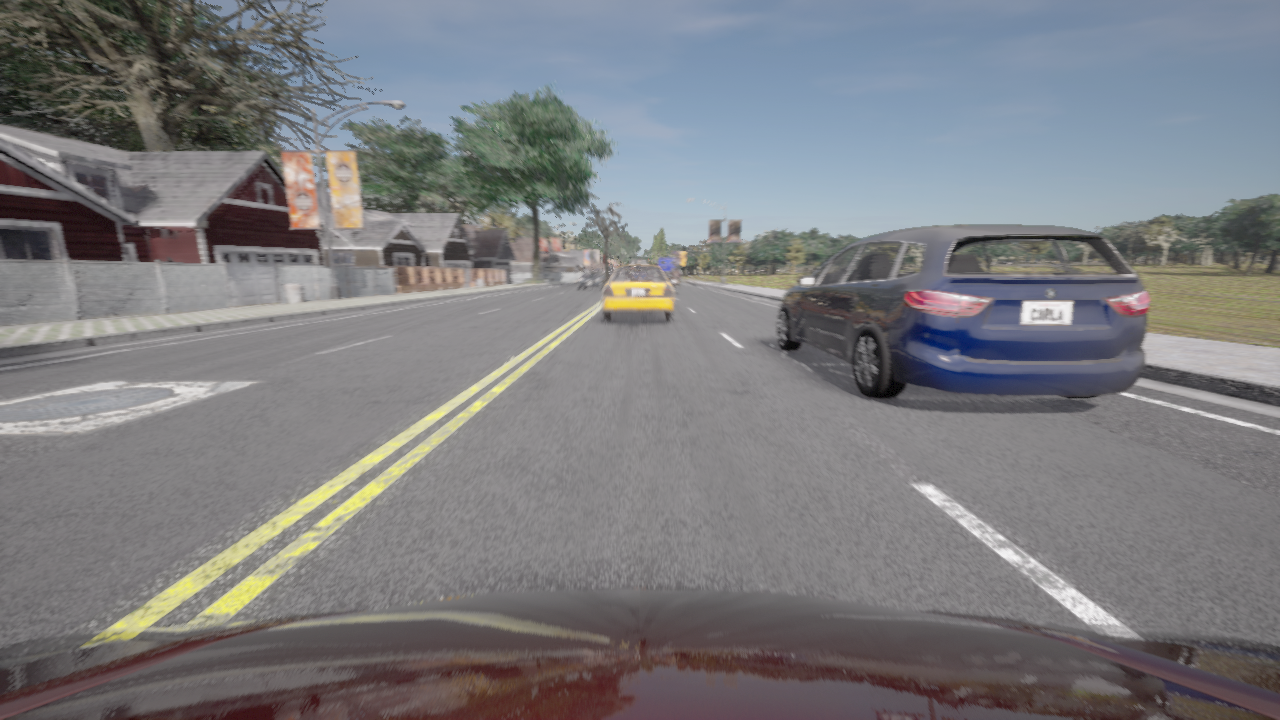cyclist: (0, 588, 1279, 719), (776, 225, 1149, 398), (602, 259, 674, 320), (577, 269, 606, 289), (655, 256, 679, 276), (671, 275, 683, 293)
